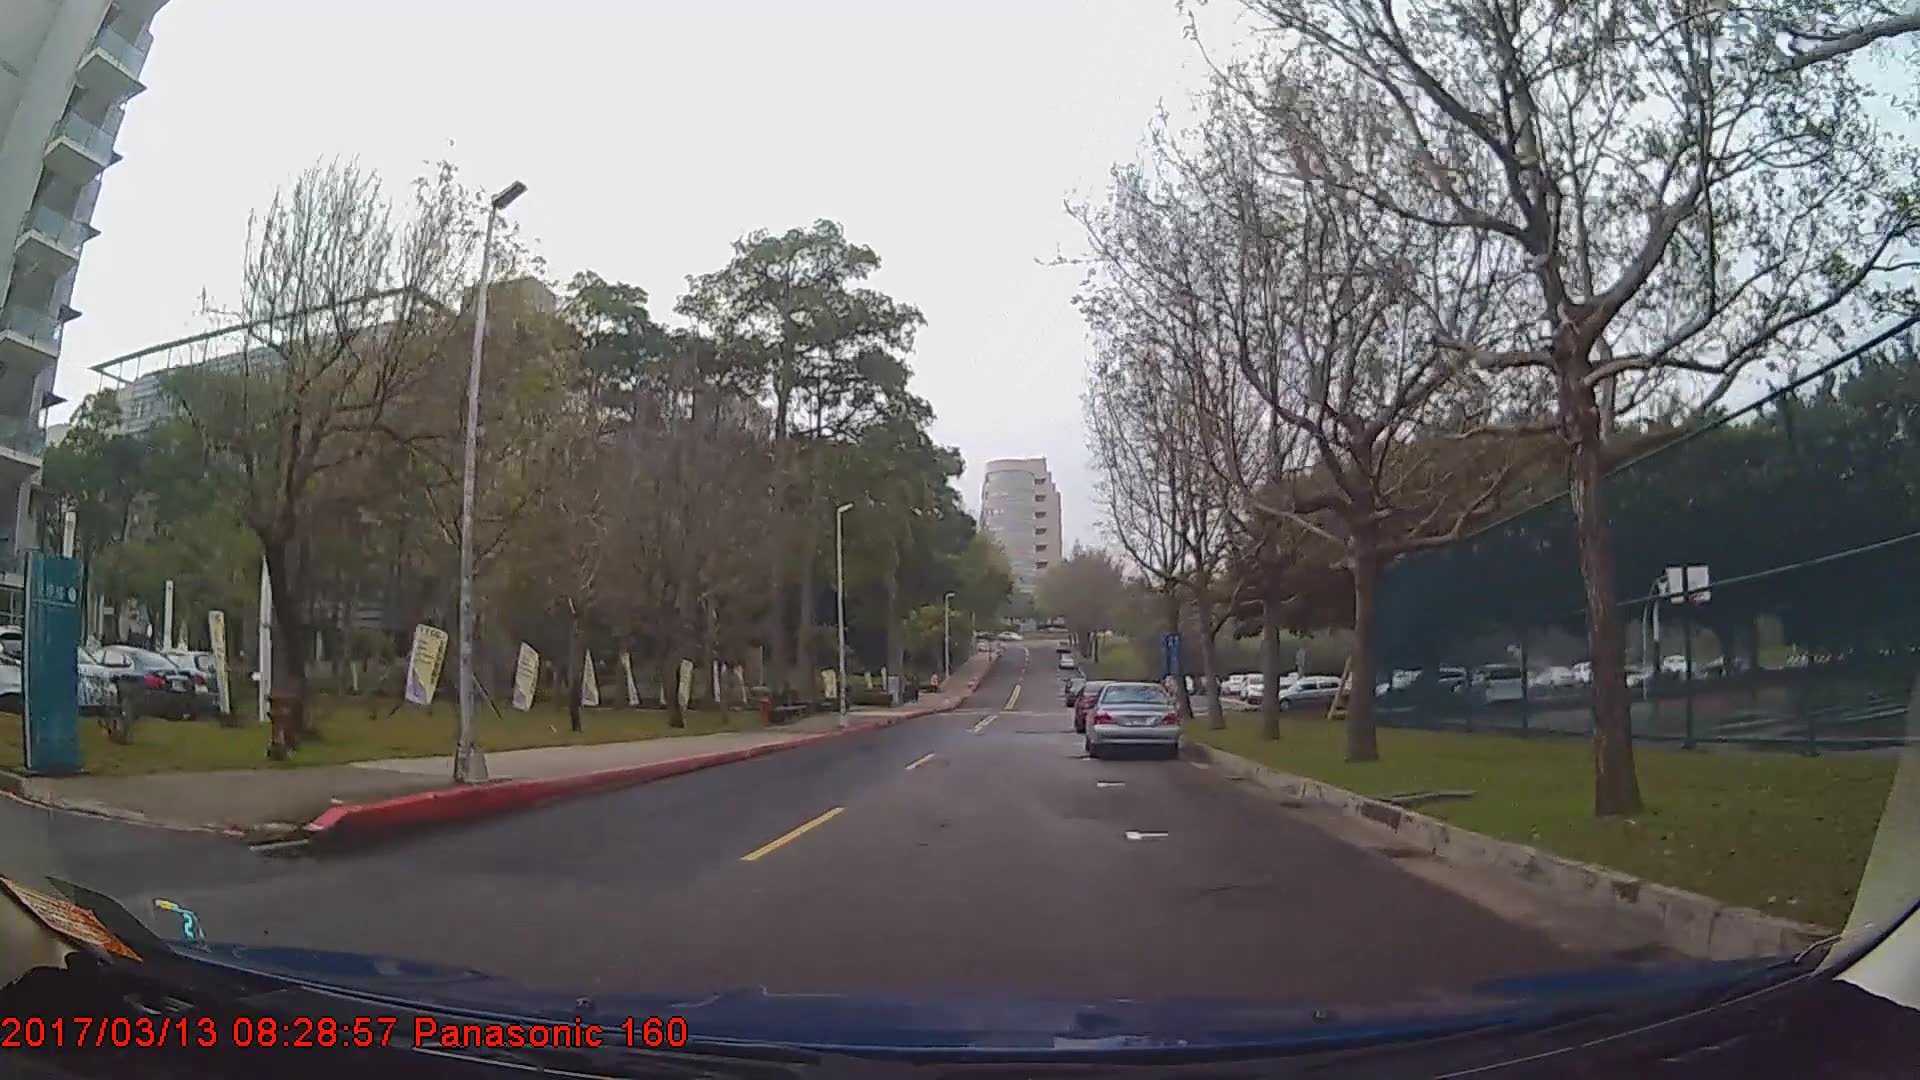vehicle: (67, 642, 195, 720), (1081, 680, 1182, 756), (133, 646, 232, 713), (1261, 674, 1356, 712)
